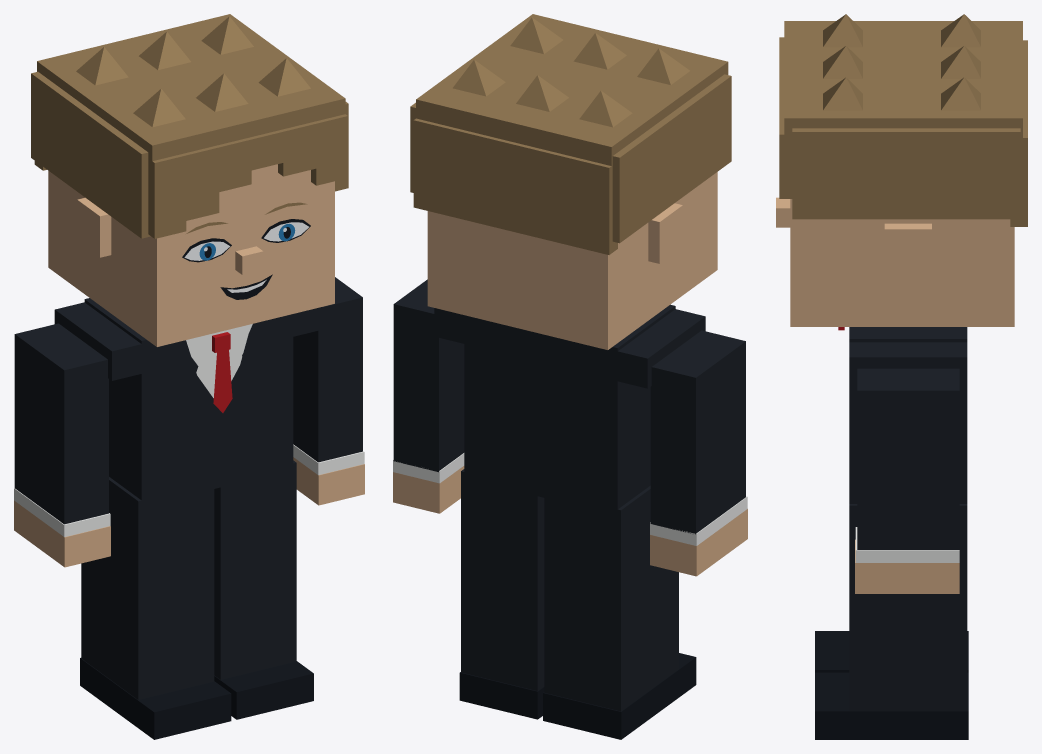
Rendered from male_spiky.glb.
3 views of the same model, side by side, from view 1: azimuth 30°, elevation 25°; view 2: azimuth 150°, elevation 25°; view 3: azimuth 270°, elevation 25° (orthographic). The views are drawn at different scales.
Visible parts, largest first — view 1: char_hair_visual, char_torso_visual, char_head_visual, char_leg_negx_visual, char_arm_negx_visual, char_leg_posx_visual, char_arm_posx_visual, char_hand_negx_visual, char_hand_posx_visual, char_eye_posx_visual, char_eye_negx_visual; view 2: char_hair_visual, char_torso_visual, char_head_visual, char_leg_negx_visual, char_arm_negx_visual, char_leg_posx_visual, char_arm_posx_visual, char_hand_negx_visual, char_hand_posx_visual; view 3: char_hair_visual, char_head_visual, char_arm_posx_visual, char_leg_posx_visual, char_torso_visual, char_hand_posx_visual, char_leg_negx_visual.
Part boxes in pixels (<box>): char_hair_visual: <box>31,14,348,238</box>; char_torso_visual: <box>54,298,322,582</box>; char_head_visual: <box>48,164,334,346</box>; char_leg_negx_visual: <box>80,558,231,739</box>; char_arm_negx_visual: <box>14,323,110,536</box>; char_leg_posx_visual: <box>214,539,313,719</box>; char_arm_posx_visual: <box>293,277,364,474</box>; char_hand_negx_visual: <box>14,500,110,567</box>; char_hand_posx_visual: <box>293,457,364,505</box>; char_eye_posx_visual: <box>261,219,310,242</box>; char_eye_negx_visual: <box>182,238,231,262</box>; char_hair_visual: <box>410,14,731,254</box>; char_torso_visual: <box>434,304,705,586</box>; char_head_visual: <box>427,172,717,349</box>; char_leg_negx_visual: <box>543,565,696,739</box>; char_arm_negx_visual: <box>650,330,747,545</box>; char_leg_posx_visual: <box>459,548,544,719</box>; char_arm_posx_visual: <box>393,279,464,483</box>; char_hand_negx_visual: <box>650,509,747,576</box>; char_hand_posx_visual: <box>393,466,464,513</box>; char_hair_visual: <box>779,14,1027,226</box>; char_head_visual: <box>776,197,1014,326</box>; char_arm_posx_visual: <box>855,368,959,562</box>; char_leg_posx_visual: <box>815,589,968,739</box>; char_torso_visual: <box>838,327,967,589</box>; char_hand_posx_visual: <box>855,539,959,593</box>; char_leg_negx_visual: <box>815,631,968,672</box>.
Bounding box in the file's own units: 0.91 × 1.84 × 0.6395.
